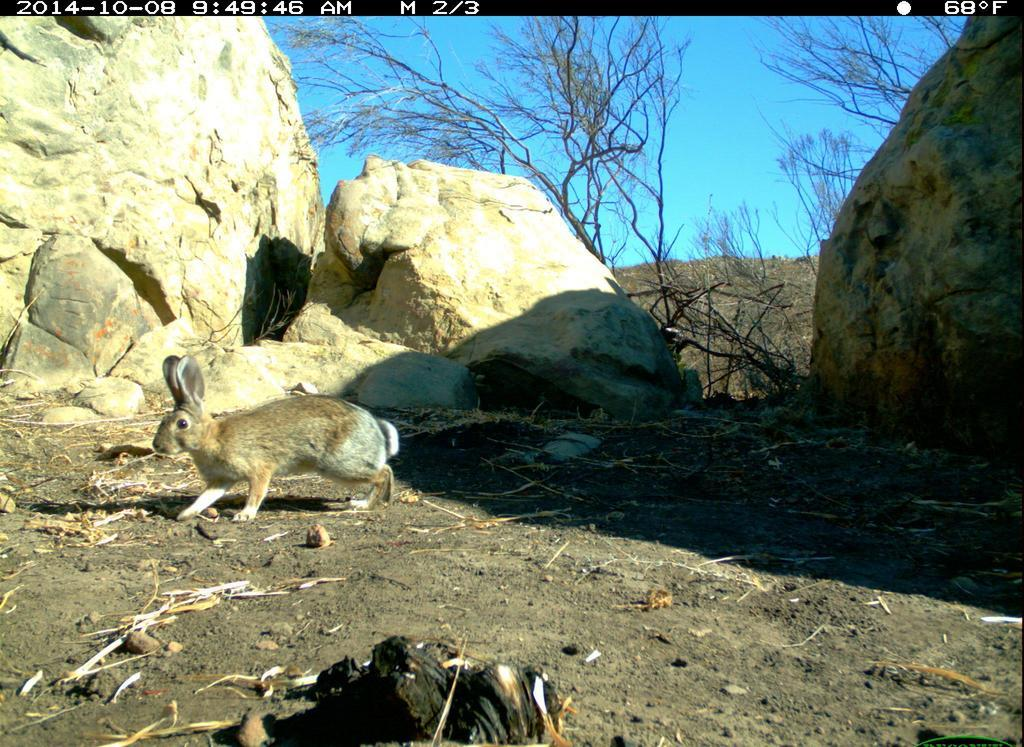rabbit: (149, 350, 414, 523)
